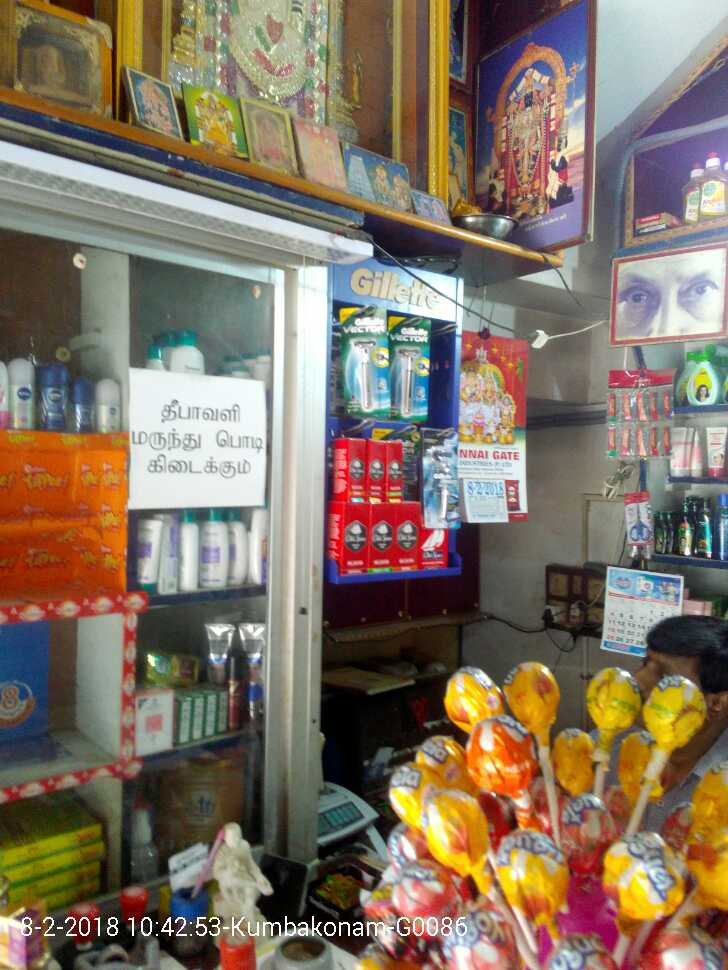gillette: (340, 301, 387, 417), (390, 317, 430, 418)
